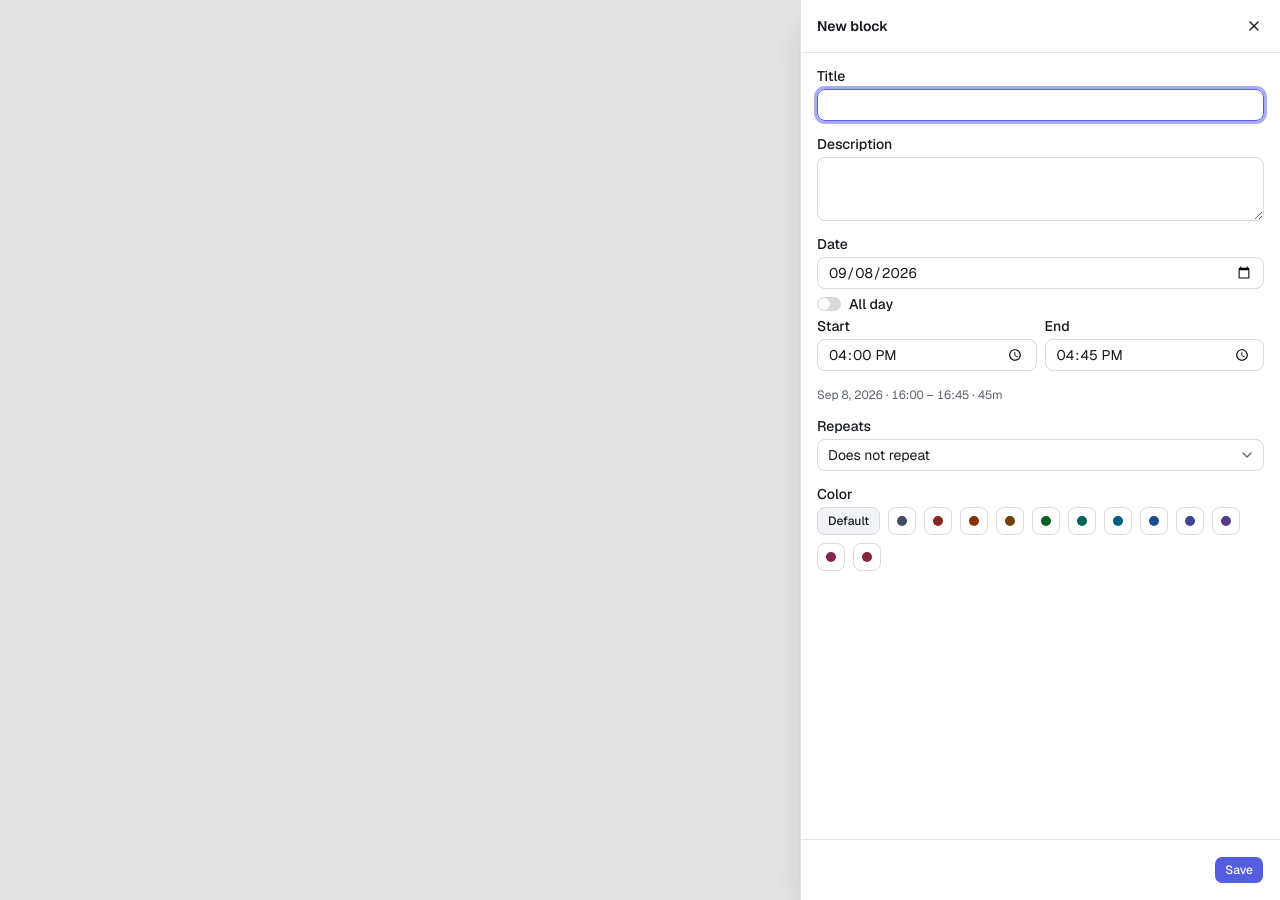
repeat rules › refuses a custom weekly rule with no day and lands focus on Repeats
This screenshot has width=1280, height=900.
Step 1. Type "Statistics lecture" into the field labelled "Title" → (1040, 105), box [817,89,1264,121]
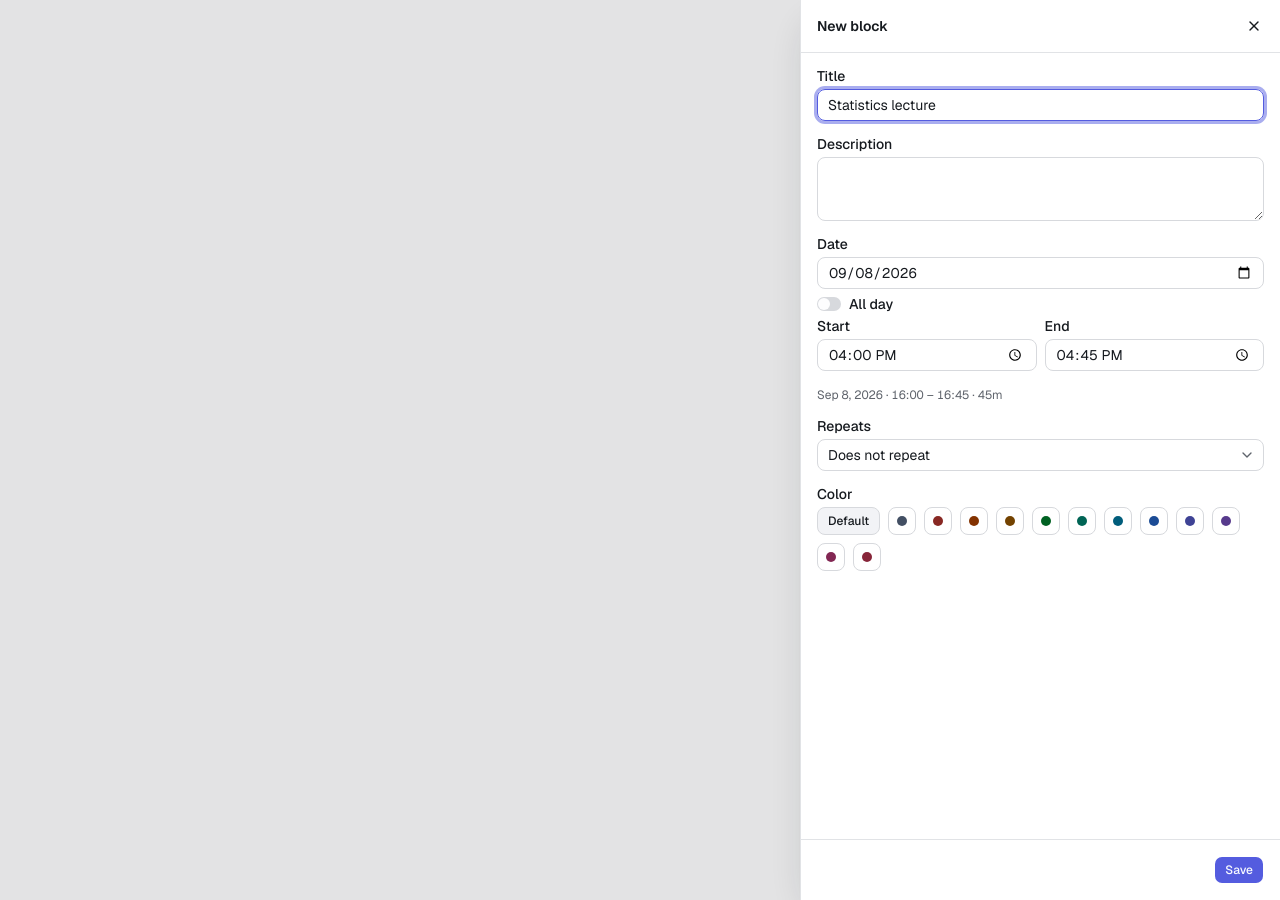
Step 2. Click the dropdown named "Repeats" → (879, 455), box [817,439,1264,471]
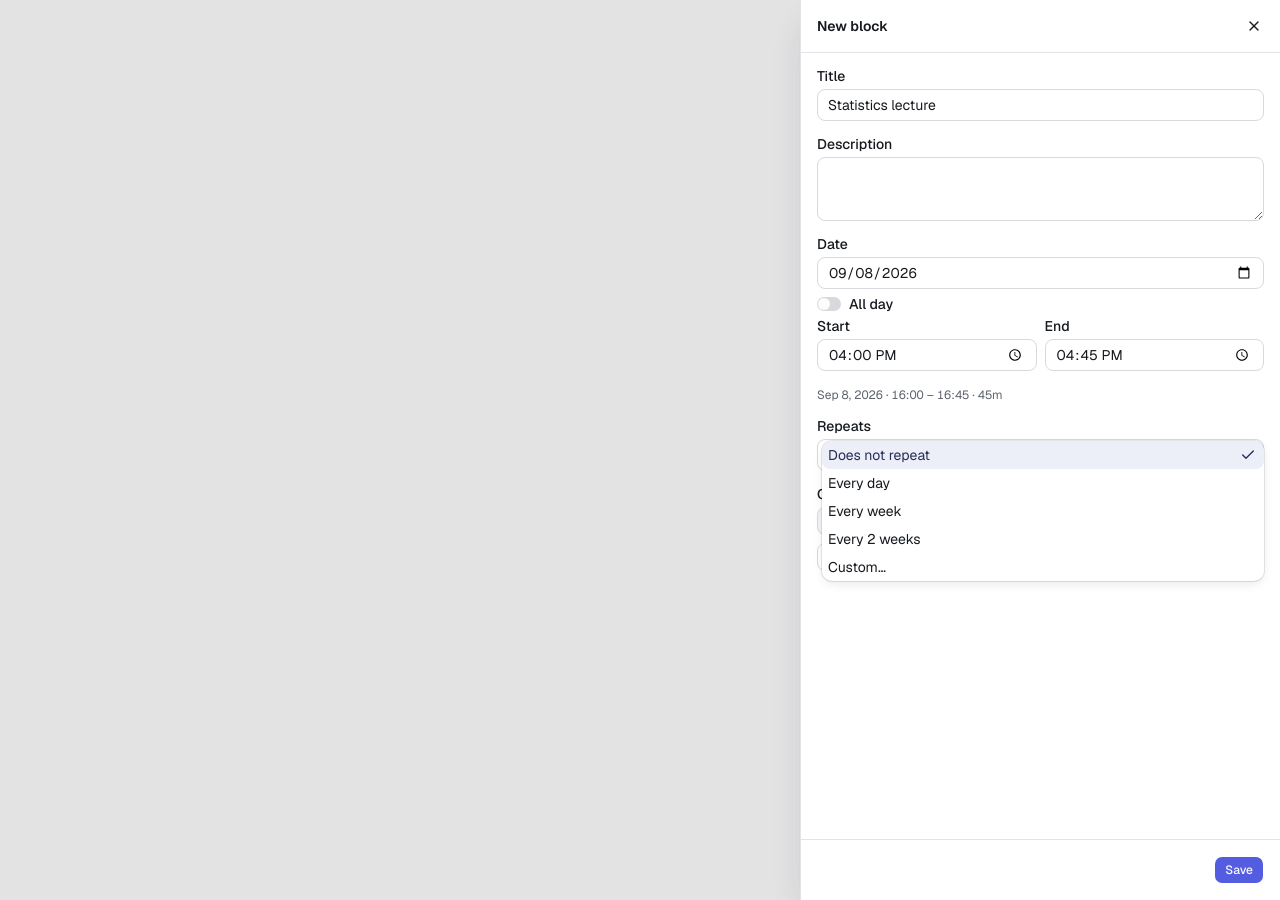
Step 3. Click the option "Custom…" → (857, 567), box [828,558,886,576]
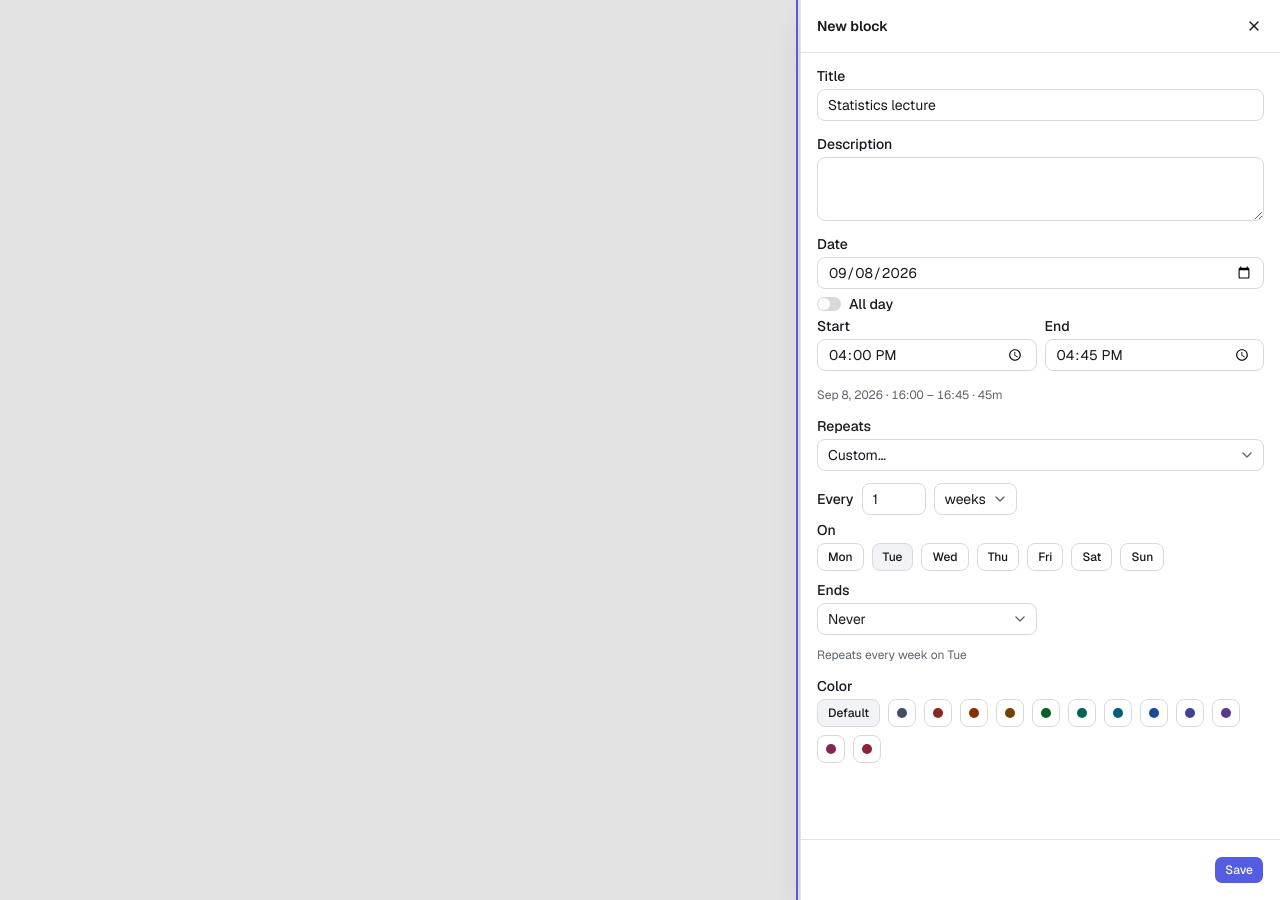
Step 4. Click the button "Tue" → (893, 557), box [872,543,914,571]
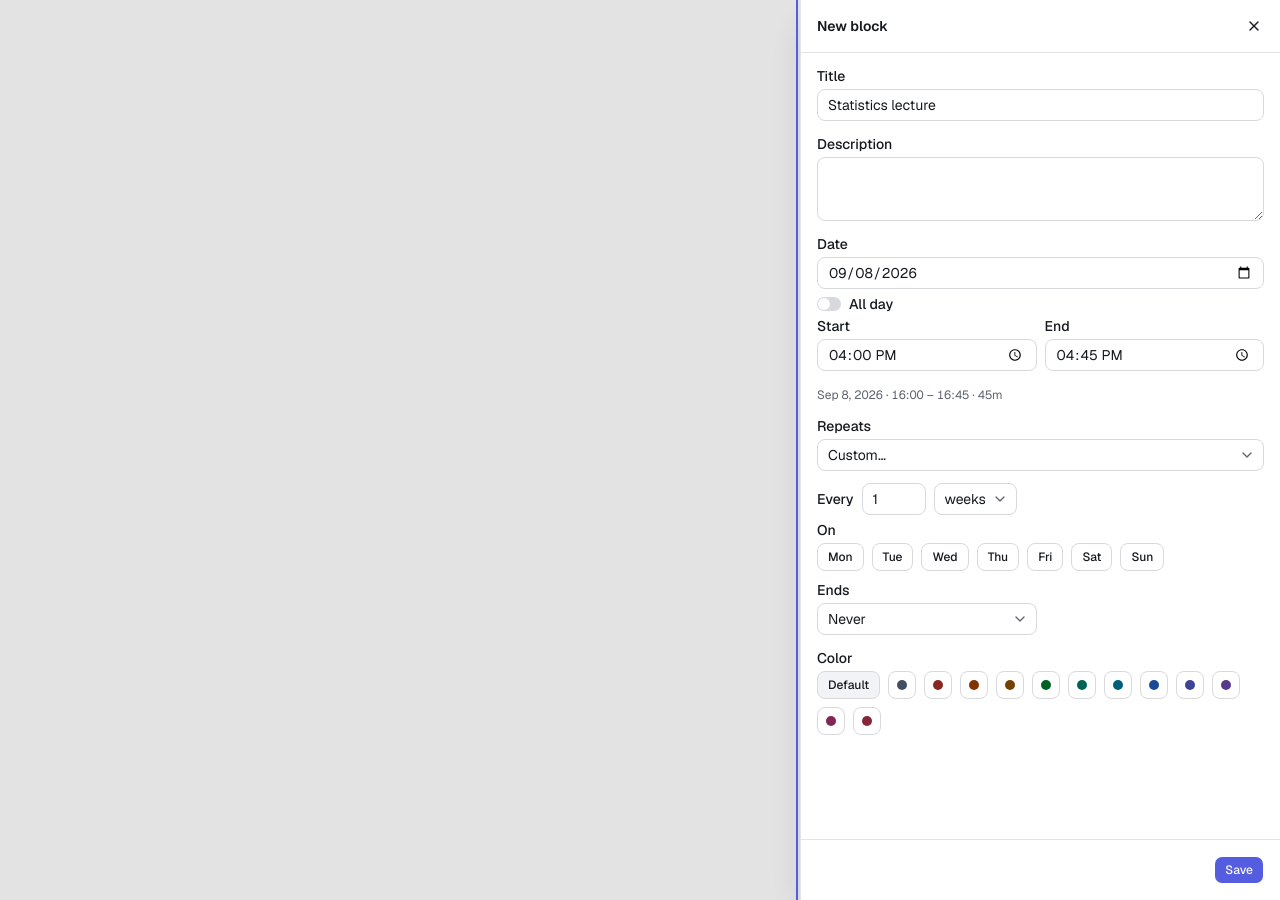
Step 5. Click the button "Save" → (1239, 870), box [1214,856,1264,884]
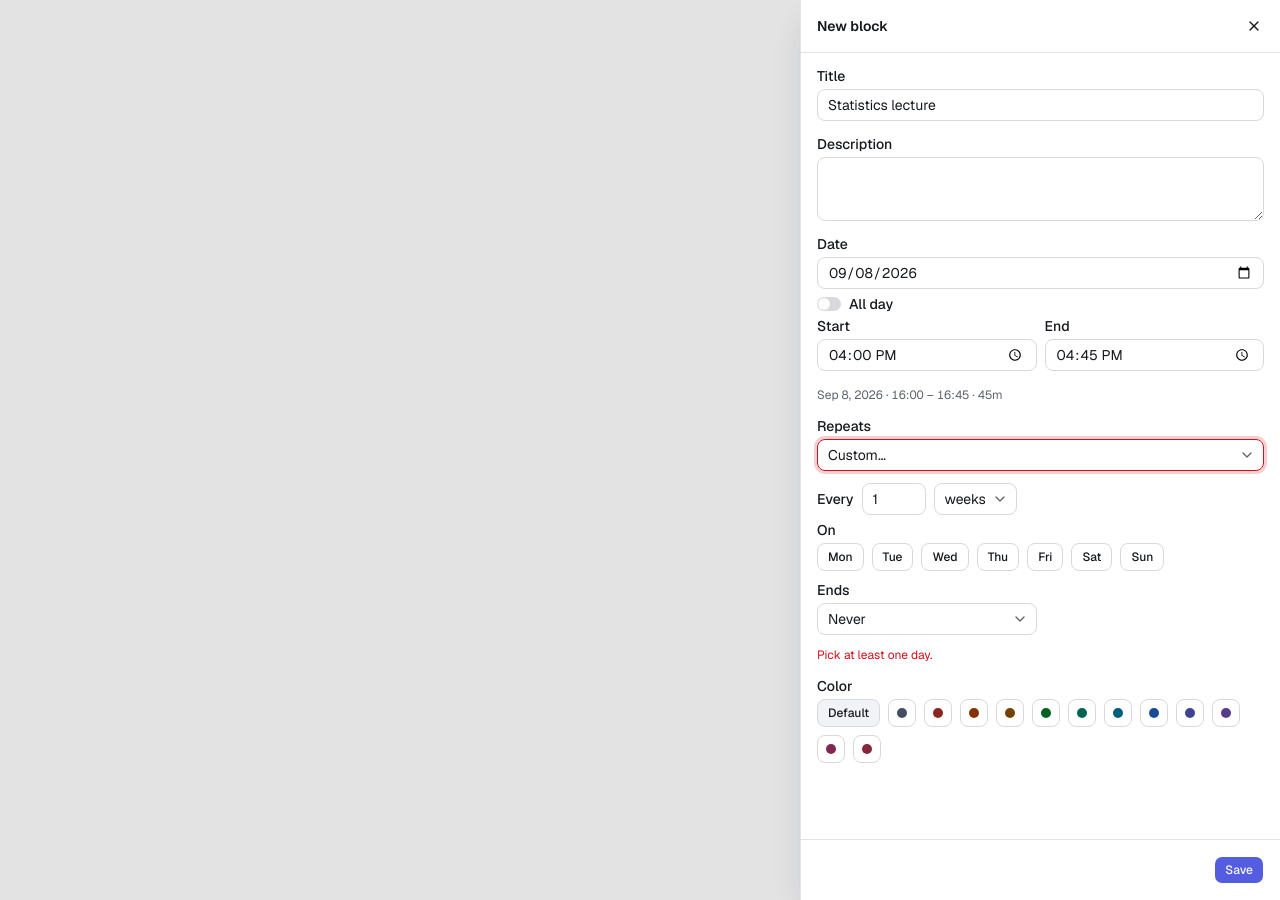
Expected: the text "Pick at least one day." is shown, [817,647,932,663]
